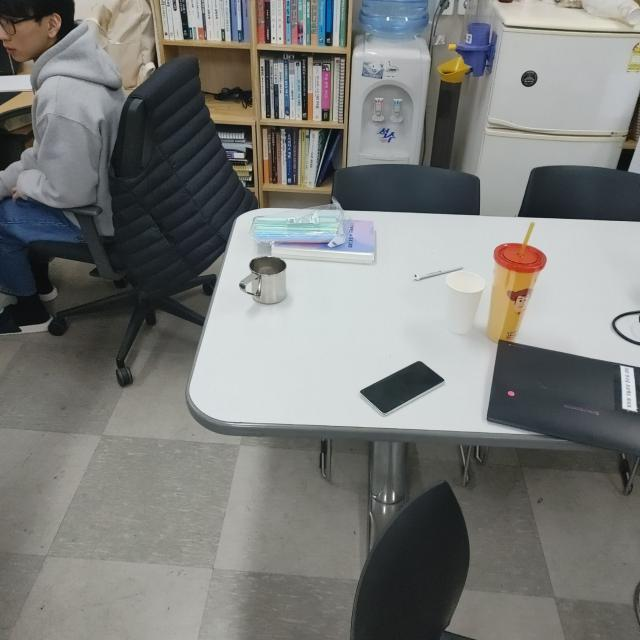cup: (240, 254, 290, 305)
phone: (360, 358, 445, 418)
